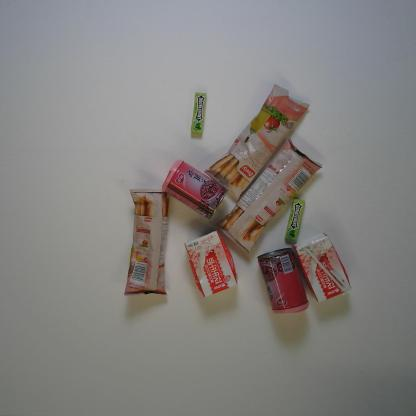Canned Food: (161, 158, 228, 219), (257, 247, 310, 316)
Dessert: (200, 81, 318, 203), (210, 136, 324, 256), (122, 187, 171, 298)
Gum: (286, 196, 305, 242), (190, 92, 209, 134)
Milk: (291, 232, 352, 303), (182, 229, 238, 300)
